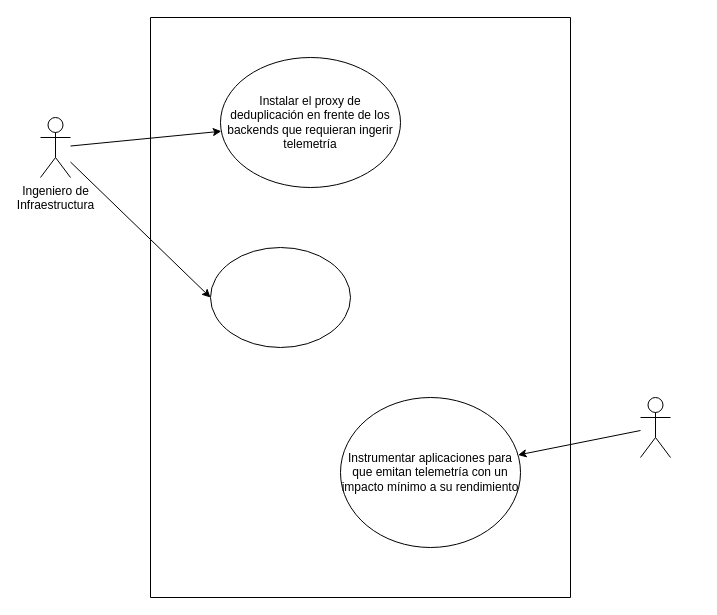
Image size: 717x615. Some labels were removed from this diagram. The shapes that lost their labels are listed below. From the top down, each one's centre as x and y in pixels, then its label:
pixel 280 297: Configurar la librería de deduplicación
pixel 655 427: Desarrollador de Aplicaciones
